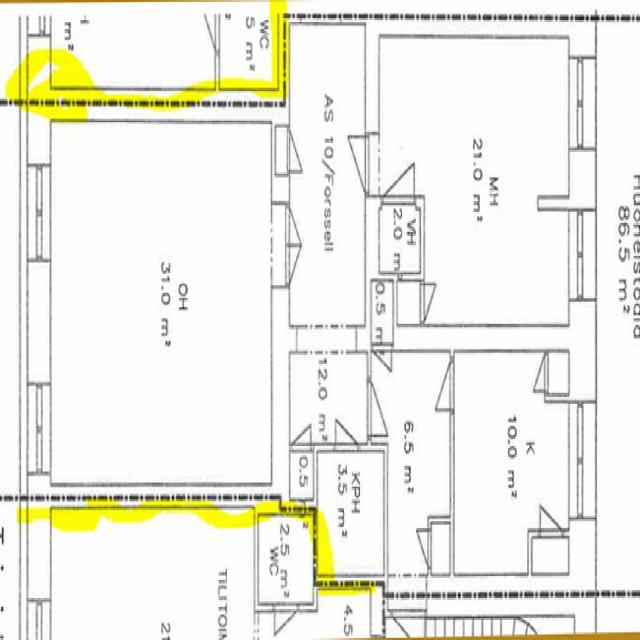door: (383, 142, 413, 203), (337, 138, 369, 191), (368, 382, 399, 434), (424, 362, 454, 410), (335, 403, 358, 450), (540, 490, 562, 537), (286, 208, 310, 246), (286, 247, 310, 285), (420, 284, 444, 321), (288, 130, 310, 170), (372, 344, 392, 386), (408, 531, 431, 567), (292, 408, 310, 450), (527, 356, 548, 390)
